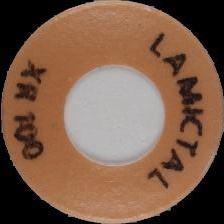0173-0756: (0, 0, 224, 224)
